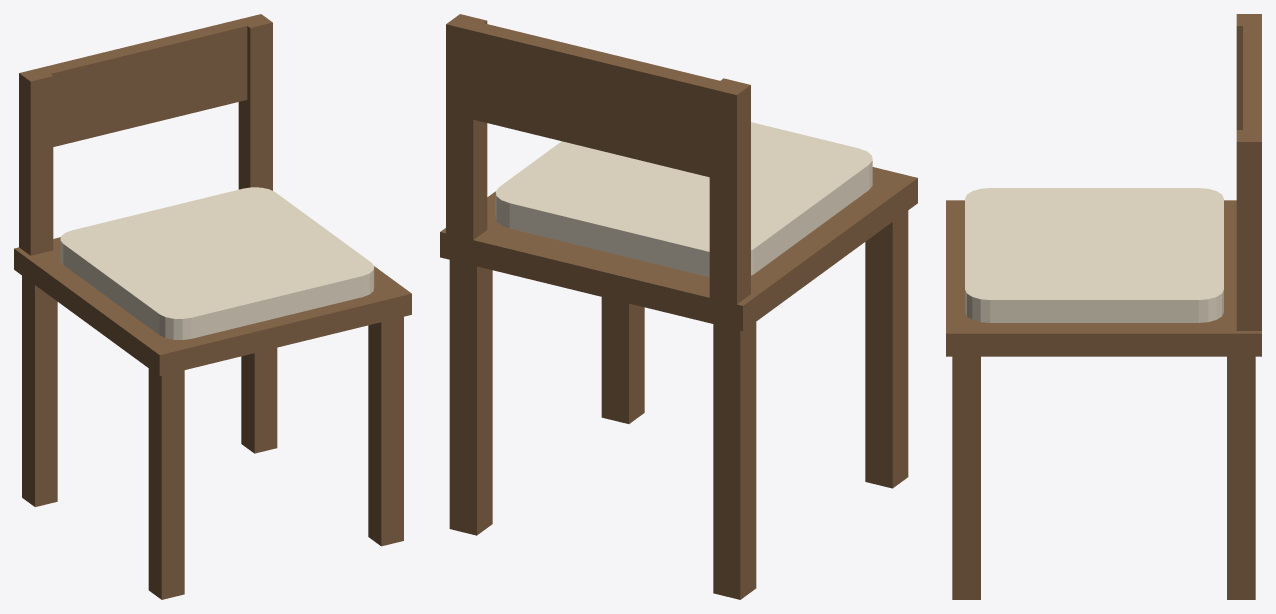
Rendered from dining_chair.glb.
3 views of the same model, side by side, from view 1: azimuth 30°, elevation 25°; view 2: azimuth 150°, elevation 25°; view 3: azimuth 270°, elevation 25° (orthographic). The views are drawn at different scales.
Parts seen in each view (by area): view 1: dining_chair_Body; view 2: dining_chair_Body; view 3: dining_chair_Body.
Part boxes in pixels (x1=…): dining_chair_Body: x1=14, y1=14, x2=411, y2=599; dining_chair_Body: x1=440, y1=14, x2=917, y2=599; dining_chair_Body: x1=946, y1=14, x2=1261, y2=599.
Bounding box in the file's own units: 0.5 × 0.8 × 0.5.
